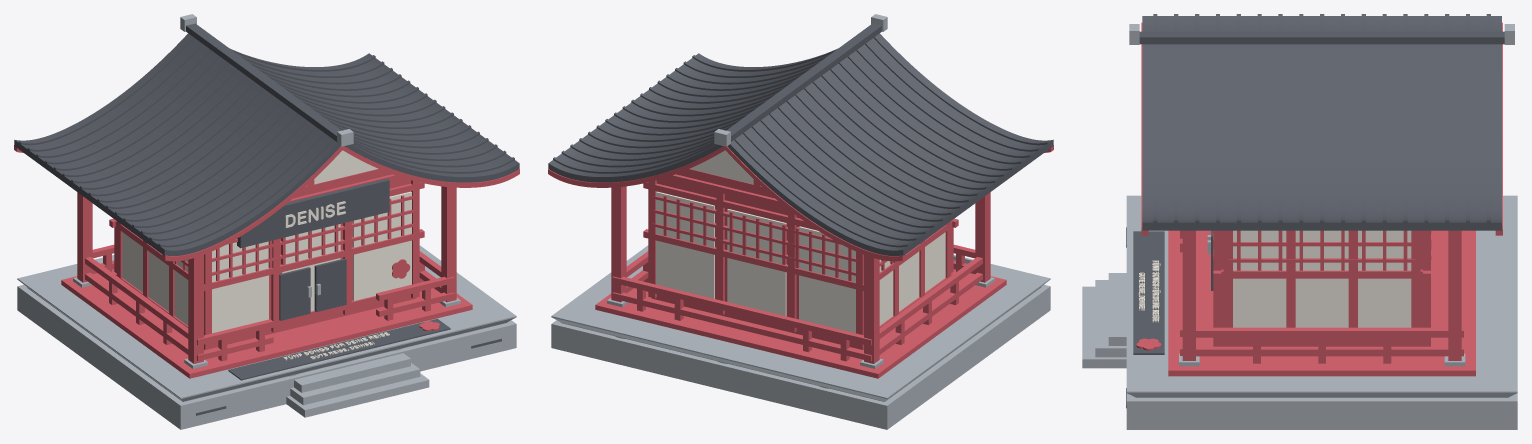
File: temple.glb
3 views of the same model, side by side, from view 1: azimuth 30°, elevation 25°; view 2: azimuth 150°, elevation 25°; view 3: azimuth 270°, elevation 25° (orthographic). The views are drawn at different scales.
Parts seen in each view (by area): view 1: 04_Dach__Schwarz, 03_Tempelhalle__Rot, 01_Basis__Grau, 03_Tempelhalle__Weiss, 02_Deckel__Grau, 03_Tempelhalle__Schwarz, 04_Dach__Rot, 02_Deckel__Schwarz, 04_Dach__Weiss, 02_Deckel__Weiss, 03_Tempelhalle__Grau; view 2: 04_Dach__Schwarz, 03_Tempelhalle__Rot, 03_Tempelhalle__Weiss, 01_Basis__Grau, 02_Deckel__Grau, 04_Dach__Rot, 04_Dach__Weiss; view 3: 04_Dach__Schwarz, 03_Tempelhalle__Rot, 02_Deckel__Grau, 01_Basis__Grau, 03_Tempelhalle__Weiss, 02_Deckel__Schwarz, 02_Deckel__Weiss, 04_Dach__Rot, 04_Dach__Grau, 03_Tempelhalle__Grau.
Part boxes in pixels (left/top/right/bottom): 04_Dach__Schwarz: left=14, top=23, right=519, bottom=255; 03_Tempelhalle__Rot: left=61, top=172, right=472, bottom=378; 01_Basis__Grau: left=17, top=284, right=516, bottom=429; 03_Tempelhalle__Weiss: left=122, top=191, right=411, bottom=333; 02_Deckel__Grau: left=17, top=245, right=516, bottom=401; 03_Tempelhalle__Schwarz: left=237, top=178, right=389, bottom=320; 04_Dach__Rot: left=14, top=145, right=519, bottom=261; 02_Deckel__Schwarz: left=228, top=319, right=450, bottom=380; 04_Dach__Weiss: left=314, top=150, right=377, bottom=184; 02_Deckel__Weiss: left=283, top=332, right=389, bottom=360; 03_Tempelhalle__Grau: left=73, top=277, right=460, bottom=368; 04_Dach__Schwarz: left=548, top=23, right=1053, bottom=255; 03_Tempelhalle__Rot: left=595, top=172, right=1006, bottom=378; 03_Tempelhalle__Weiss: left=656, top=191, right=945, bottom=333; 01_Basis__Grau: left=551, top=284, right=1050, bottom=429; 02_Deckel__Grau: left=551, top=245, right=1050, bottom=401; 04_Dach__Rot: left=548, top=145, right=1053, bottom=261; 04_Dach__Weiss: left=690, top=150, right=753, bottom=184; 04_Dach__Schwarz: left=1139, top=14, right=1504, bottom=230; 03_Tempelhalle__Rot: left=1168, top=230, right=1475, bottom=376; 02_Deckel__Grau: left=1126, top=195, right=1517, bottom=397; 01_Basis__Grau: left=1082, top=273, right=1517, bottom=429; 03_Tempelhalle__Weiss: left=1233, top=230, right=1411, bottom=327; 02_Deckel__Schwarz: left=1133, top=231, right=1164, bottom=354; 02_Deckel__Weiss: left=1138, top=260, right=1160, bottom=322; 04_Dach__Rot: left=1141, top=22, right=1502, bottom=235; 04_Dach__Grau: left=1129, top=24, right=1514, bottom=44; 03_Tempelhalle__Grau: left=1179, top=235, right=1465, bottom=366.
Bounding box in the file's own units: 3.38 × 2.32 × 3.01.
